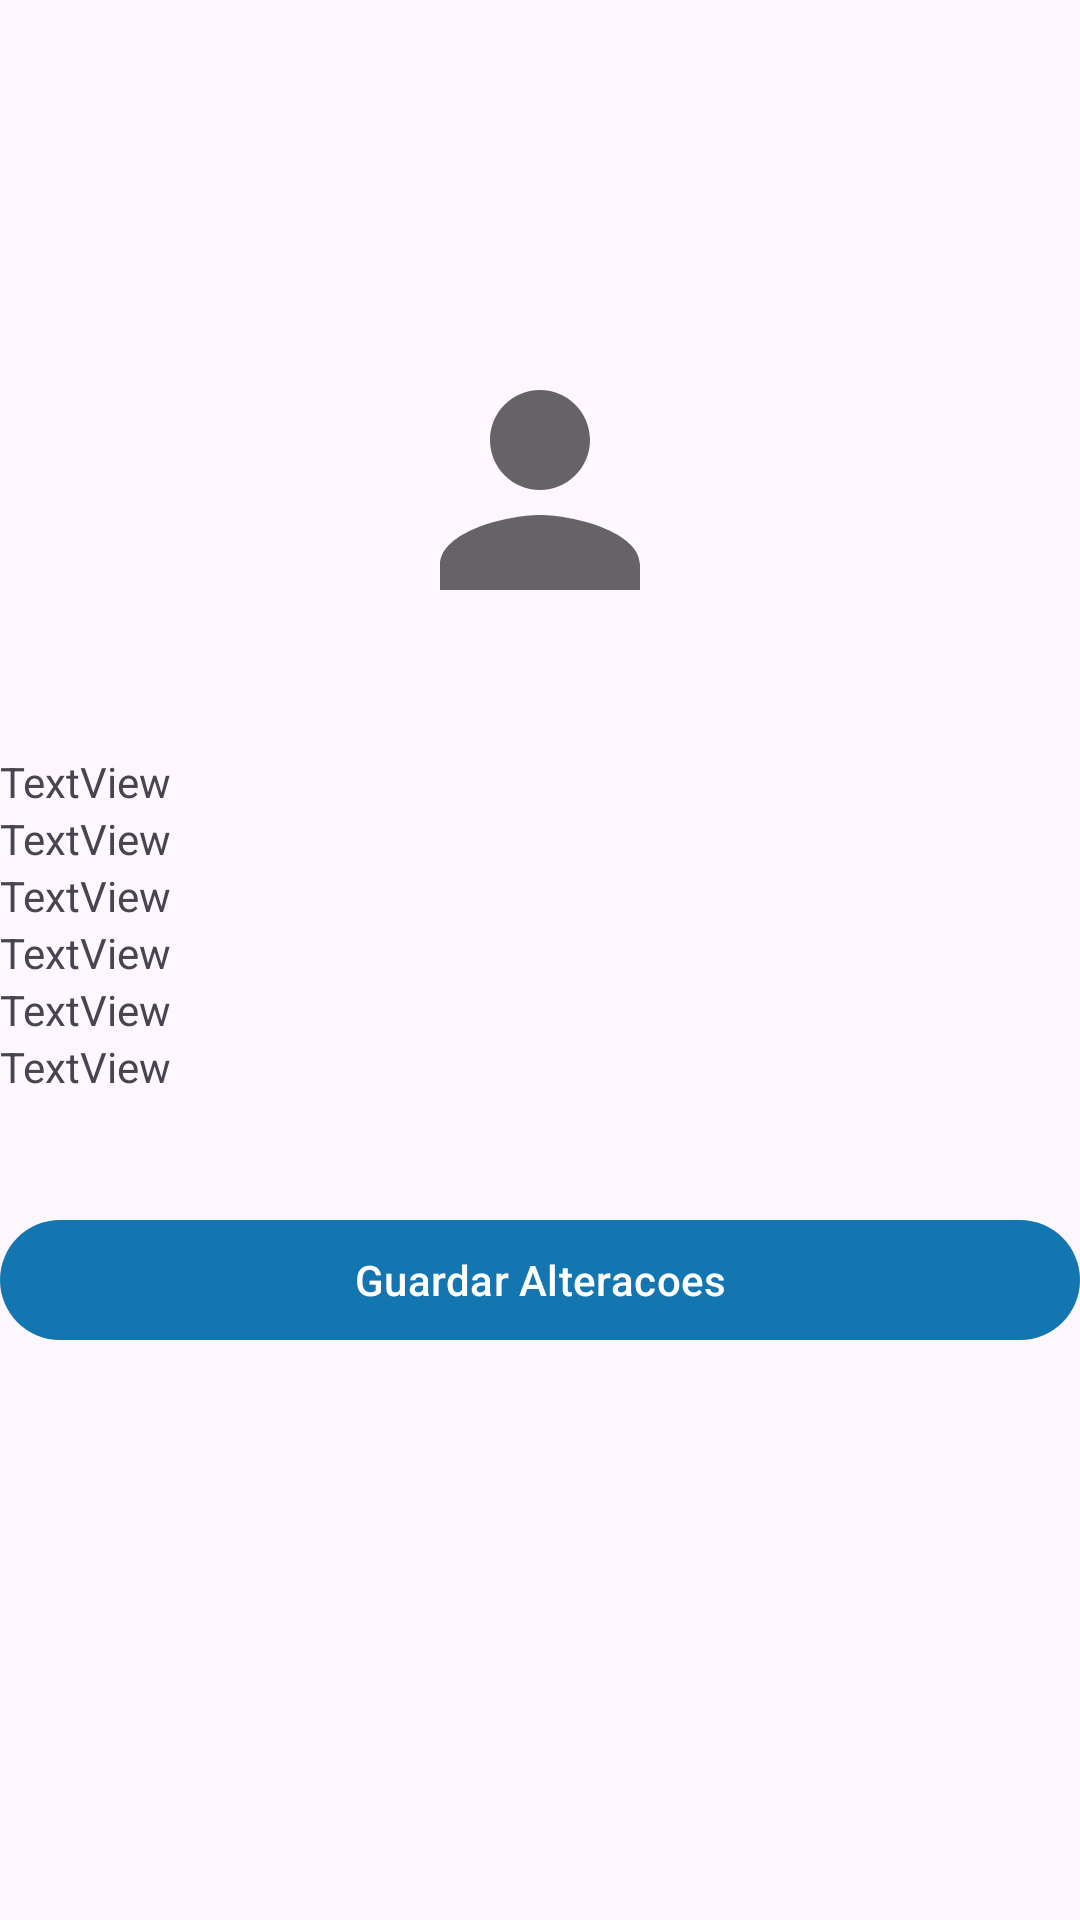

Screen size 1080×1920. Icon name, then its center in pixels as (x=x, y=y):
user person: (x=540, y=490)
